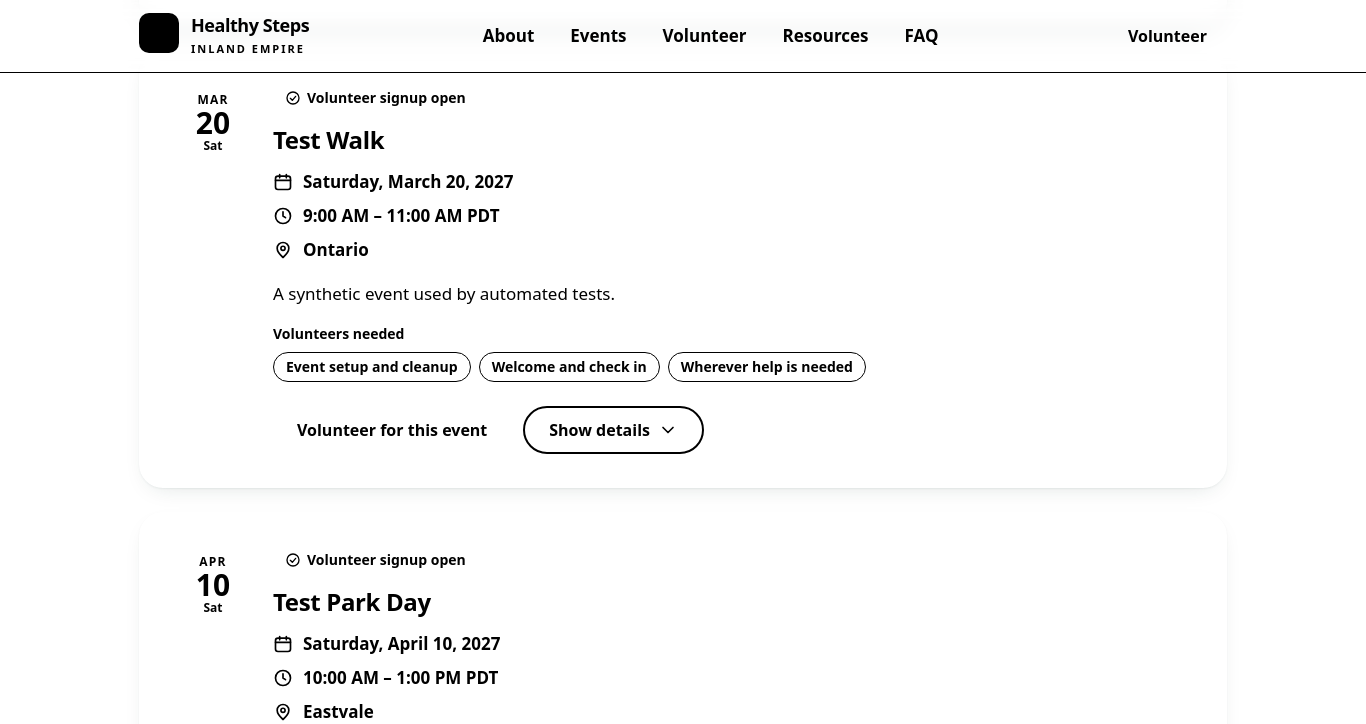
it: volunteering for an event › switching to another event from its card resets an incompatible role and the shift
(page scrolled)
Click the button "Volunteer for this event" at (392, 430), box [273,406,511,454]
(page scrolled)
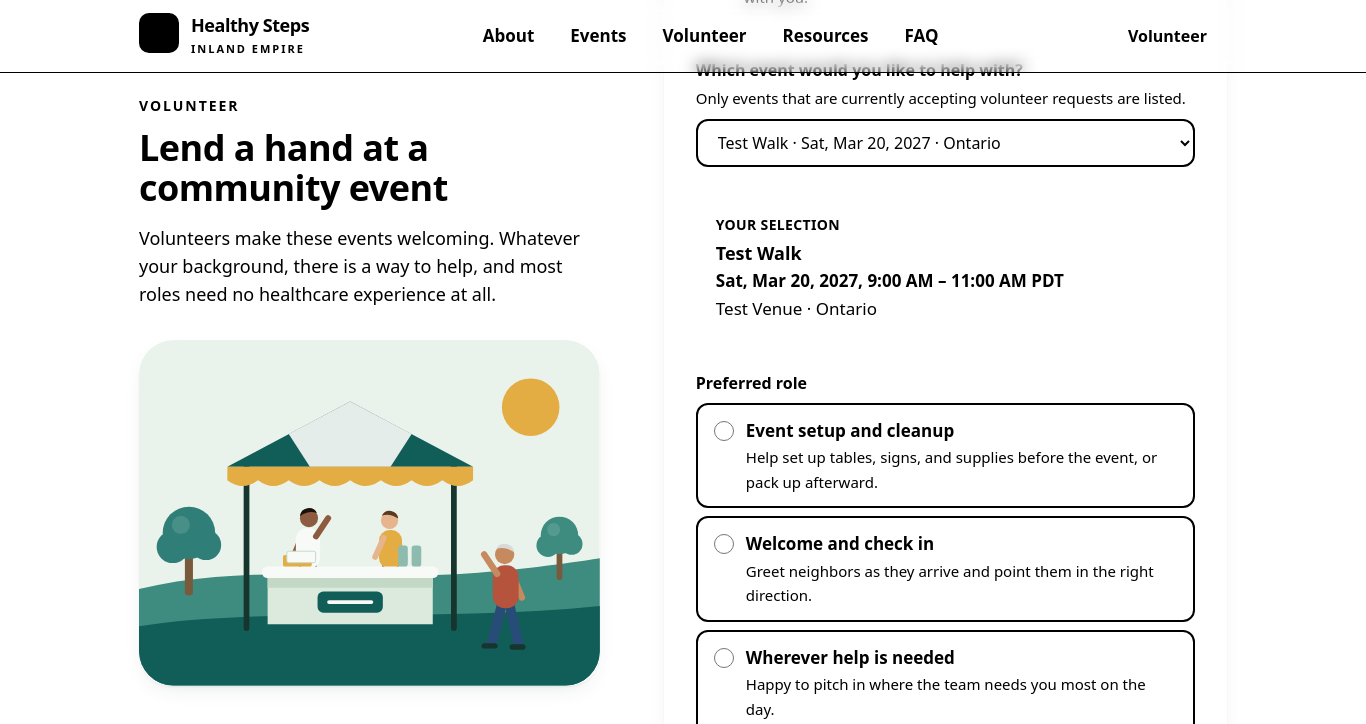
Click the radio button labelled "Event setup and cleanup" at (724, 431), box [714,421,734,441]
(page scrolled)
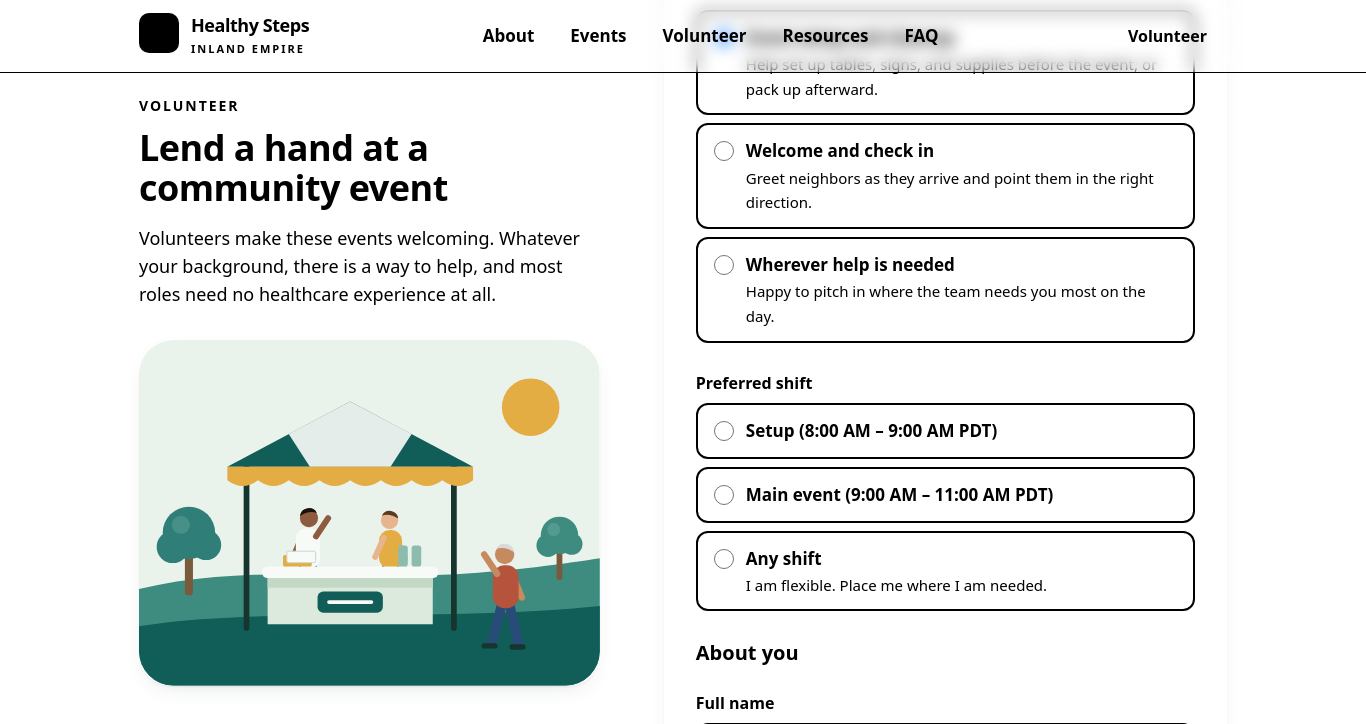
Click the radio button labelled "Setup (8:00 AM – 9:00 AM PDT)" at (724, 430), box [714,420,734,440]
(page scrolled)
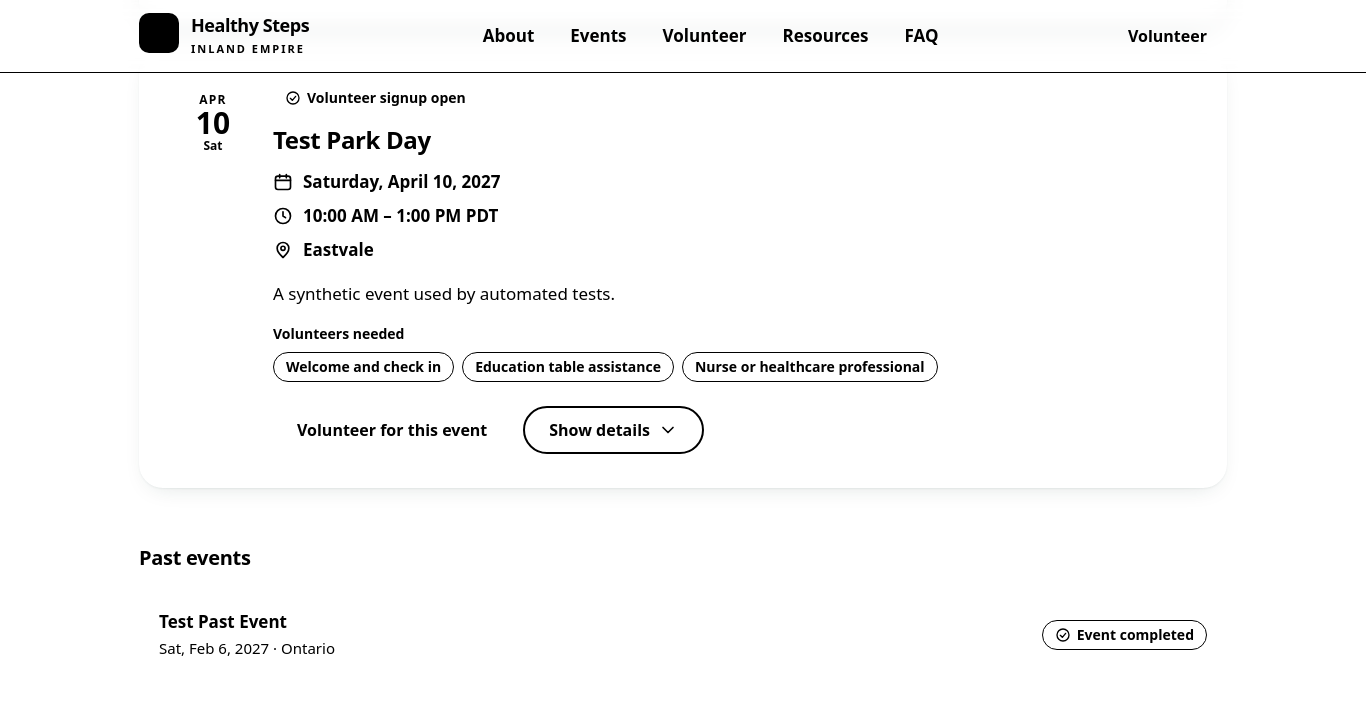
Click the button "Volunteer for this event" at (392, 430), box [273,406,511,454]
(page scrolled)
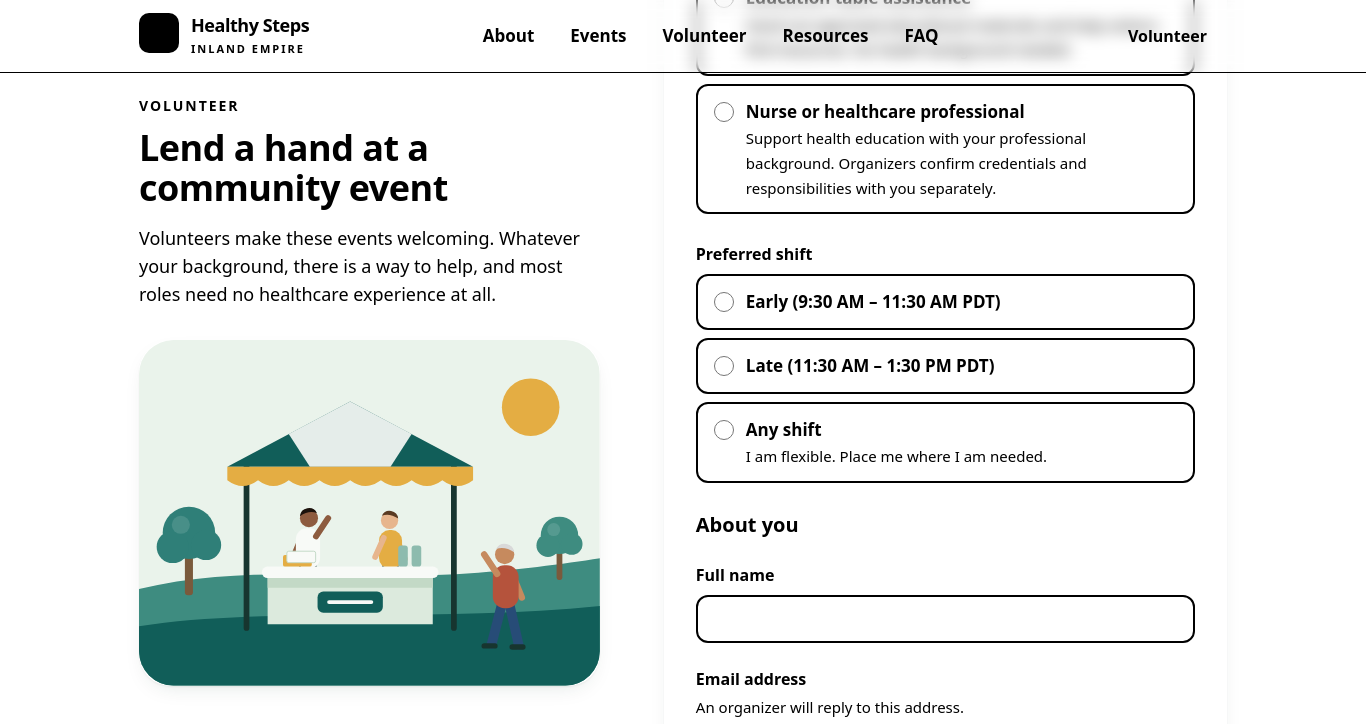
Now the radio button labelled "Any shift I am flexible. Place me where I am needed." is not checked, box [714,420,734,440]
Now the radio button labelled "Early (9:30 AM – 11:30 AM PDT)" is not checked, box [714,292,734,312]
Now the radio button labelled "Late (11:30 AM – 1:30 PM PDT)" is not checked, box [714,356,734,376]
